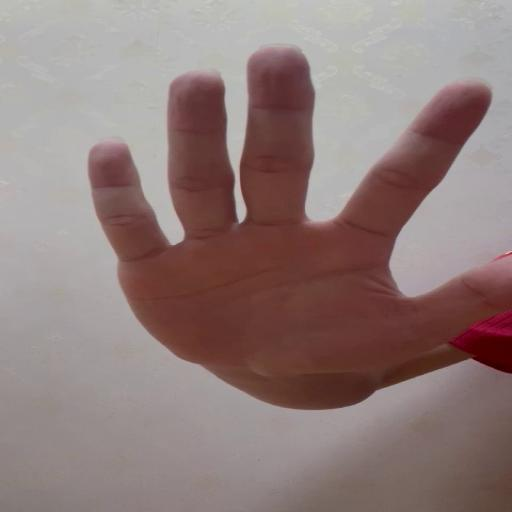open_palm: (87, 43, 512, 377)
